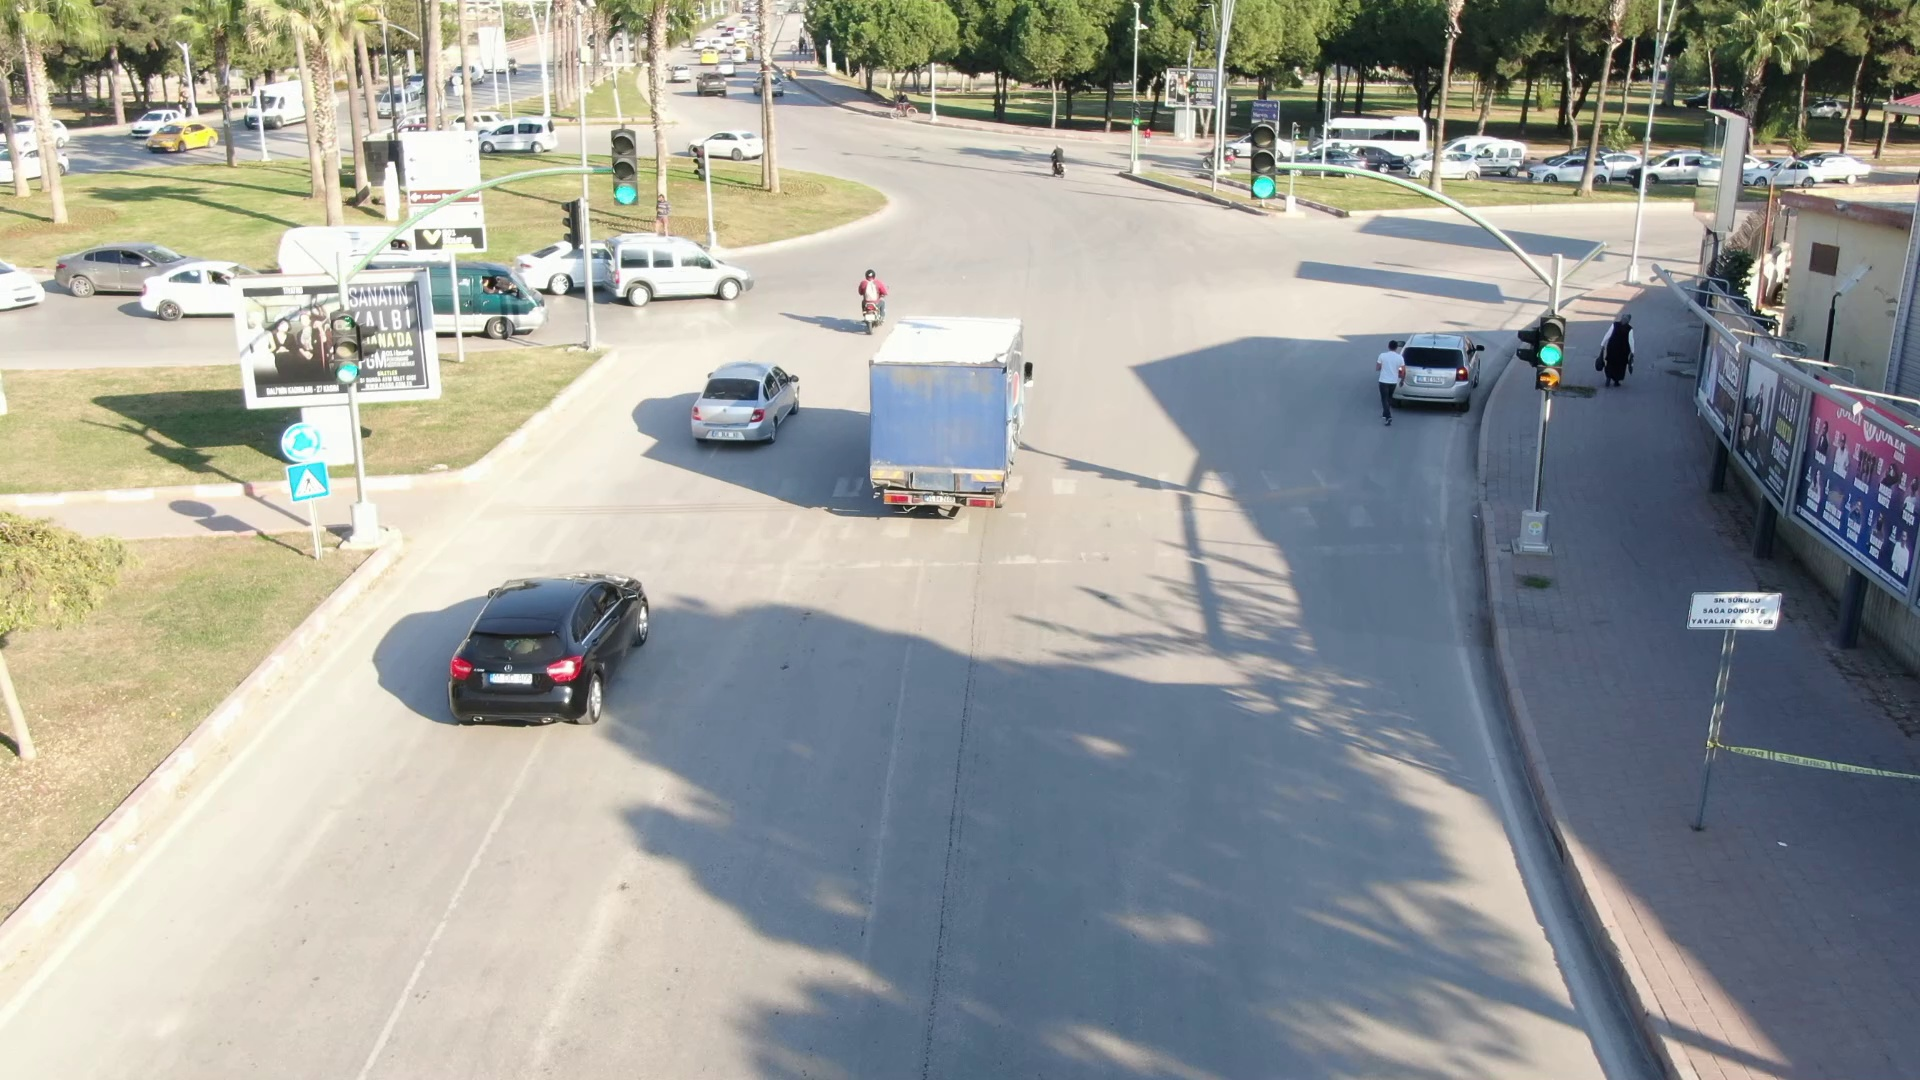car: (427, 541, 673, 749), (40, 219, 214, 315), (599, 226, 762, 315), (680, 347, 808, 458), (119, 100, 230, 156), (1527, 147, 1625, 202), (477, 113, 567, 154)
person: (1584, 300, 1643, 397), (1369, 330, 1409, 430)
